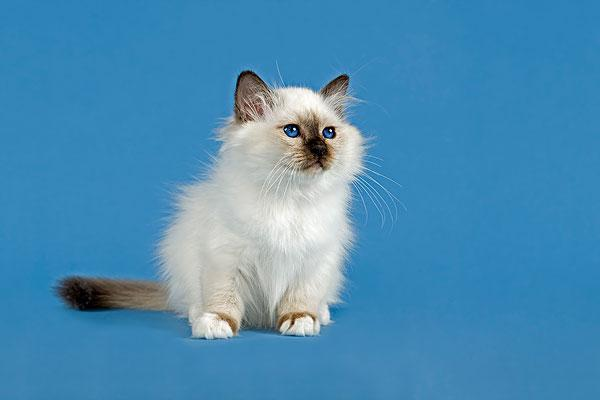cat: (53, 70, 388, 343)
